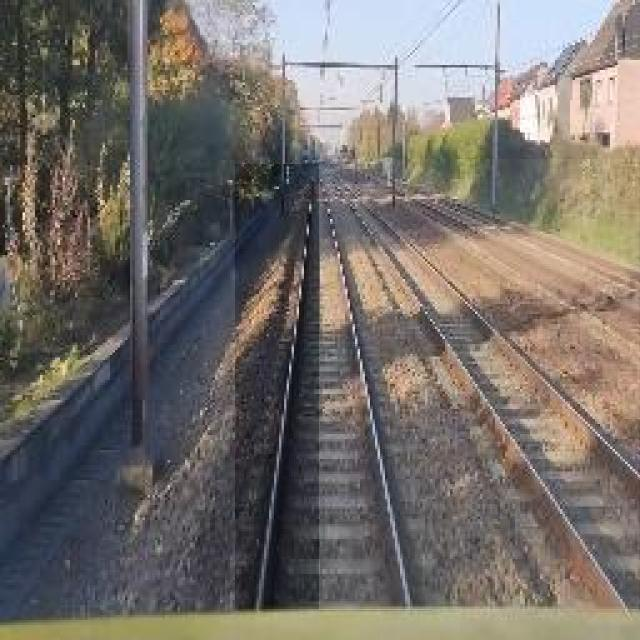rail: (320, 160, 640, 611), (236, 166, 433, 612)
